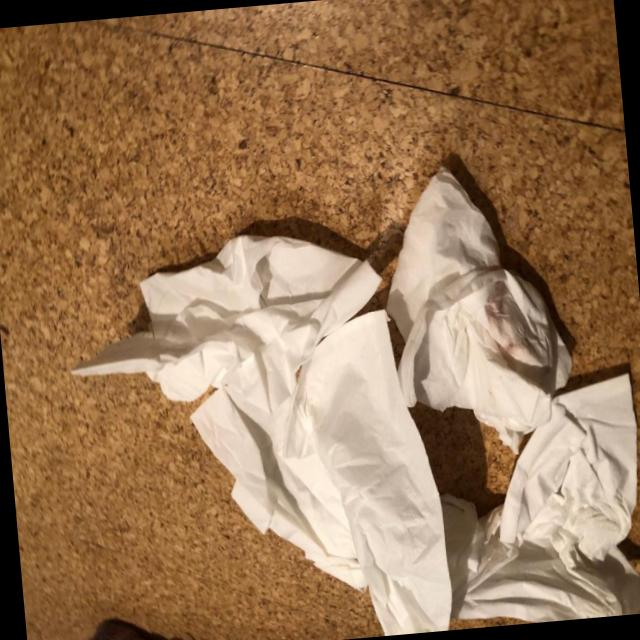organic waste: (58, 212, 455, 640), (374, 154, 580, 463), (434, 368, 640, 629)
